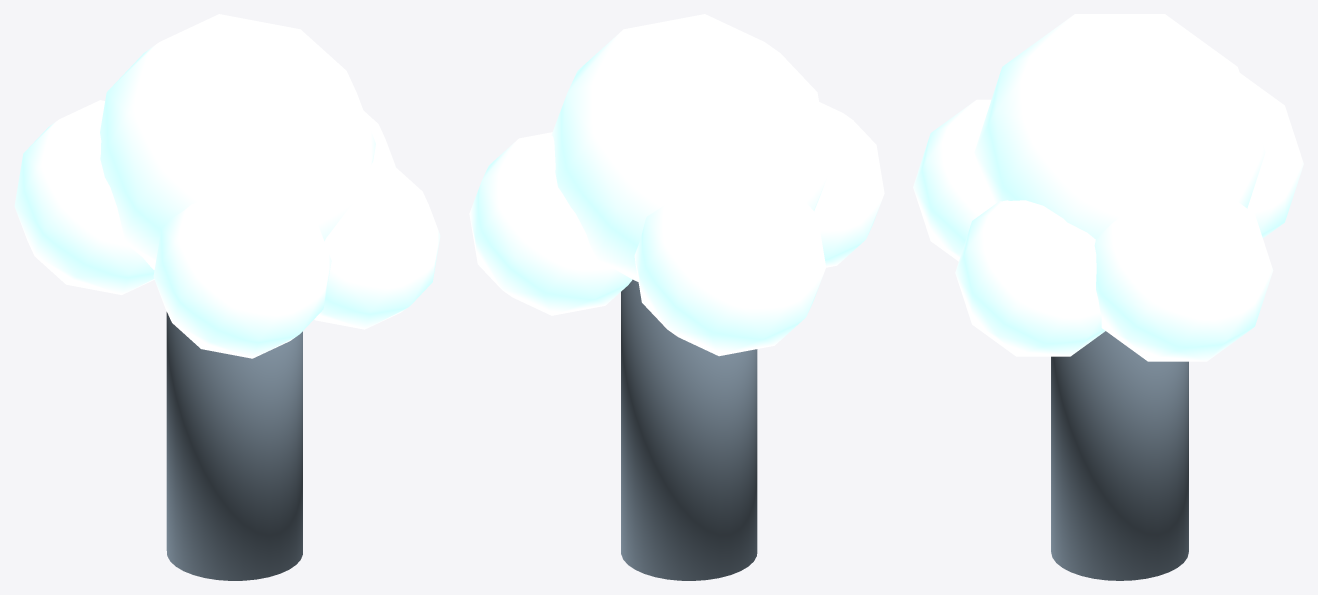
File: nature_crystal_canopy_tree.glb
3 renders of one model, left to right at view 1: azimuth 30°, elevation 25°; view 2: azimuth 150°, elevation 25°; view 3: azimuth 270°, elevation 25°, orthographic.
Visible parts, largest first — view 1: Prismatic_Cluster_1, Crystal_Tree_Trunk, Prismatic_Cluster_4, Prismatic_Cluster_3, Prismatic_Cluster_5, Prismatic_Cluster_2; view 2: Prismatic_Cluster_1, Crystal_Tree_Trunk, Prismatic_Cluster_3, Prismatic_Cluster_2, Prismatic_Cluster_4; view 3: Prismatic_Cluster_1, Crystal_Tree_Trunk, Prismatic_Cluster_2, Prismatic_Cluster_5, Prismatic_Cluster_4, Prismatic_Cluster_3.
Part boxes in pixels (x1,y1,x2,y2): Prismatic_Cluster_1: [100, 14, 375, 269]; Crystal_Tree_Trunk: [166, 312, 302, 580]; Prismatic_Cluster_4: [153, 190, 331, 358]; Prismatic_Cluster_3: [14, 100, 154, 294]; Prismatic_Cluster_5: [314, 162, 440, 329]; Prismatic_Cluster_2: [363, 110, 395, 166]; Prismatic_Cluster_1: [551, 14, 830, 281]; Crystal_Tree_Trunk: [621, 279, 757, 580]; Prismatic_Cluster_3: [634, 173, 826, 356]; Prismatic_Cluster_2: [469, 132, 632, 315]; Prismatic_Cluster_4: [814, 102, 884, 267]; Prismatic_Cluster_1: [974, 14, 1265, 239]; Crystal_Tree_Trunk: [1051, 331, 1188, 580]; Prismatic_Cluster_2: [1094, 187, 1273, 361]; Prismatic_Cluster_5: [955, 200, 1105, 356]; Prismatic_Cluster_4: [913, 99, 992, 261]; Prismatic_Cluster_3: [1240, 73, 1303, 237].
Size of the model in its own units: 10.35 by 15.3 by 10.2.
